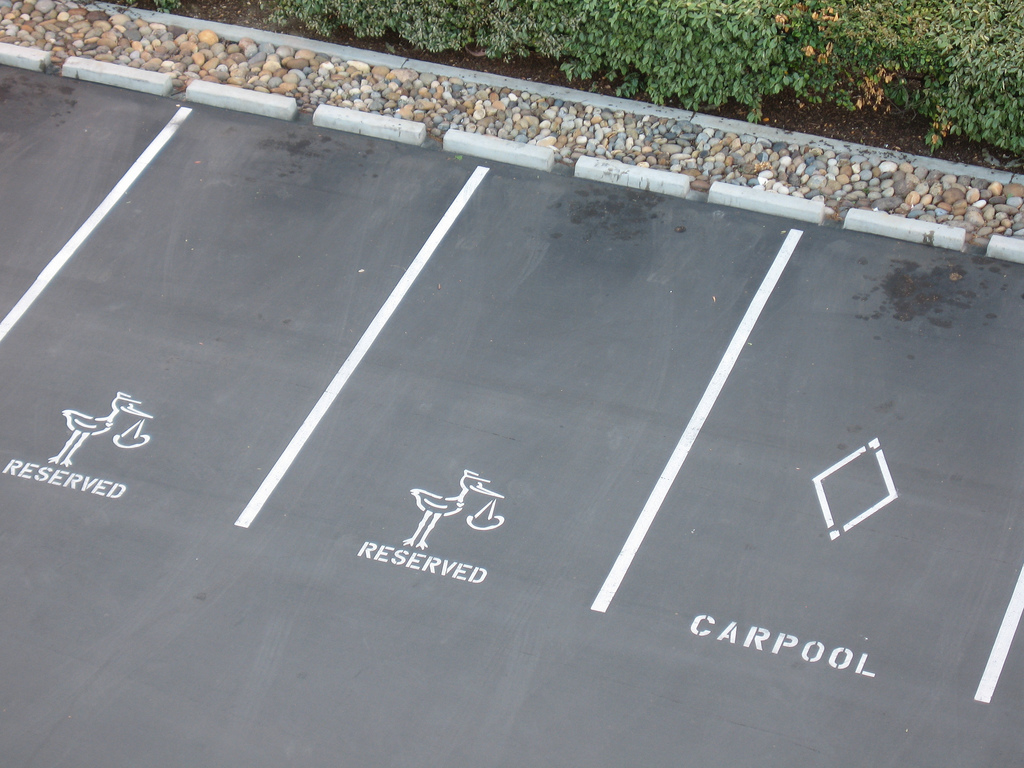empyt_space: (237, 162, 809, 621), (4, 93, 502, 534), (579, 221, 1024, 705)
